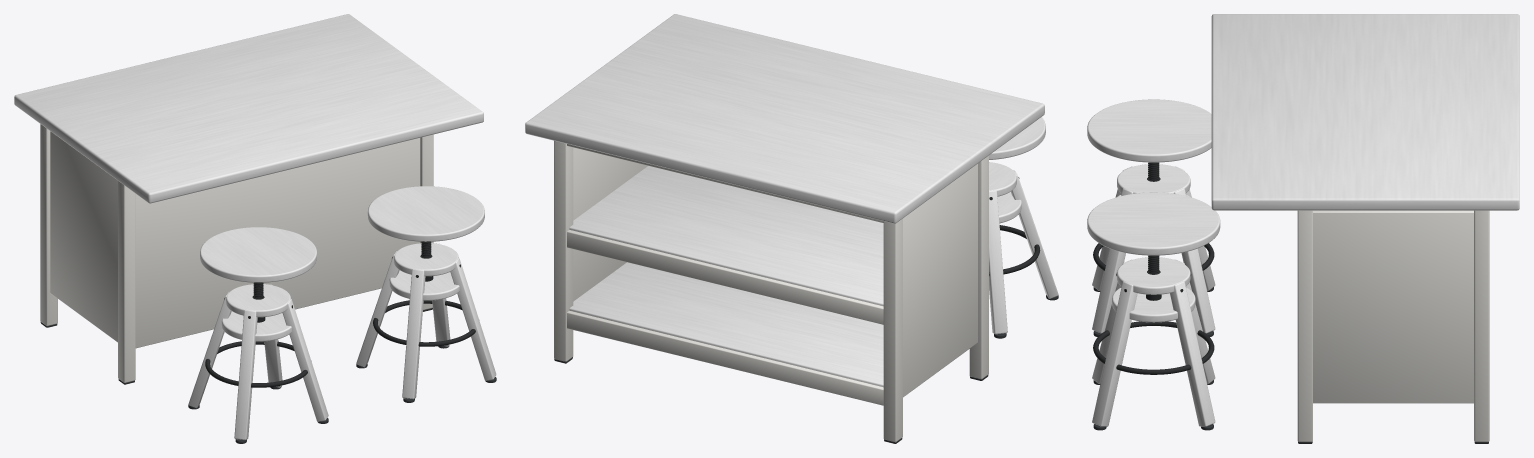
The model's file is island-two-detailed.glb.
3 renders of one model, left to right at view 1: azimuth 30°, elevation 25°; view 2: azimuth 150°, elevation 25°; view 3: azimuth 270°, elevation 25°, orthographic. The views are drawn at different scales.
Visible parts, largest first — view 1: Thick eased island worktop, Recessed island rear panel, Recessed island end panel, Rounded timber stool seat.001, Rounded timber stool seat, Square island corner post, Square island corner post.001, Splayed timber stool leg.002, Splayed timber stool leg.006, Splayed timber stool leg.007, Splayed timber stool leg.003, Timber spindle support.003 (+10 smaller); view 2: Thick eased island worktop, Inset timber island shelf.001, Inset timber island shelf, Recessed island end panel, Island front cross rail, Island front cross rail.001, Square island corner post.001, Recessed island end panel.001, Square island corner post.003, Square island corner post, Splayed timber stool leg.001, Splayed timber stool leg.002 (+4 smaller); view 3: Thick eased island worktop, Recessed island end panel.001, Rounded timber stool seat.001, Rounded timber stool seat, Square island corner post.003, Square island corner post.002, Splayed timber stool leg.007, Splayed timber stool leg.004, Timber spindle support.003, Timber spindle support.001, Timber spindle support.002, Splayed timber stool leg (+4 smaller).
Part boxes in pixels (x1,y1,x2,y2): Thick eased island worktop: (14,14,483,203); Recessed island rear panel: (135,138,420,348); Recessed island end panel: (50,131,117,342); Rounded timber stool seat.001: (367,186,484,241); Rounded timber stool seat: (200,227,316,282); Square island corner post: (118,181,135,382); Square island corner post.001: (40,124,57,325); Splayed timber stool leg.002: (234,309,257,439); Splayed timber stool leg.006: (402,269,425,398); Splayed timber stool leg.007: (450,257,496,380); Splayed timber stool leg.003: (282,298,328,421); Timber spindle support.003: (394,243,458,276); Thick eased island worktop: (525,14,1044,223); Inset timber island shelf.001: (569,166,883,306); Inset timber island shelf: (569,262,883,387); Recessed island end panel: (903,163,977,397); Island front cross rail: (567,310,883,405); Island front cross rail.001: (567,230,883,324); Square island corner post.001: (883,218,902,442); Recessed island end panel.001: (573,147,647,301); Square island corner post.003: (554,140,573,361); Square island corner post: (969,155,988,379); Splayed timber stool leg.001: (989,190,1007,334); Splayed timber stool leg.002: (1011,170,1058,298); Thick eased island worktop: (1211,14,1519,210); Recessed island end panel.001: (1313,210,1473,403); Rounded timber stool seat.001: (1087,192,1220,255); Rounded timber stool seat: (1087,99,1211,162); Square island corner post.003: (1474,210,1489,441); Square island corner post.002: (1297,210,1312,441); Splayed timber stool leg.007: (1092,281,1137,426); Splayed timber stool leg.004: (1170,281,1215,426); Timber spindle support.003: (1117,257,1190,294); Timber spindle support.001: (1117,164,1190,193); Timber spindle support.002: (1112,288,1195,322); Splayed timber stool leg: (1174,188,1215,333).
Size of the model in its own units: 1.42 by 0.9 by 1.4.
4 materials, 1 textured.
